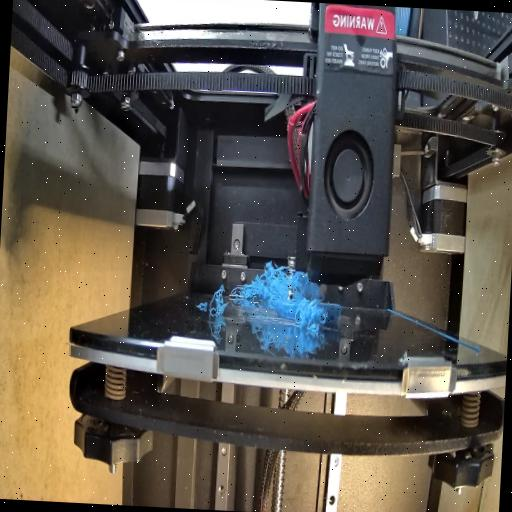spaghetti: (229, 269, 320, 307), (294, 294, 334, 336), (207, 286, 230, 320)
